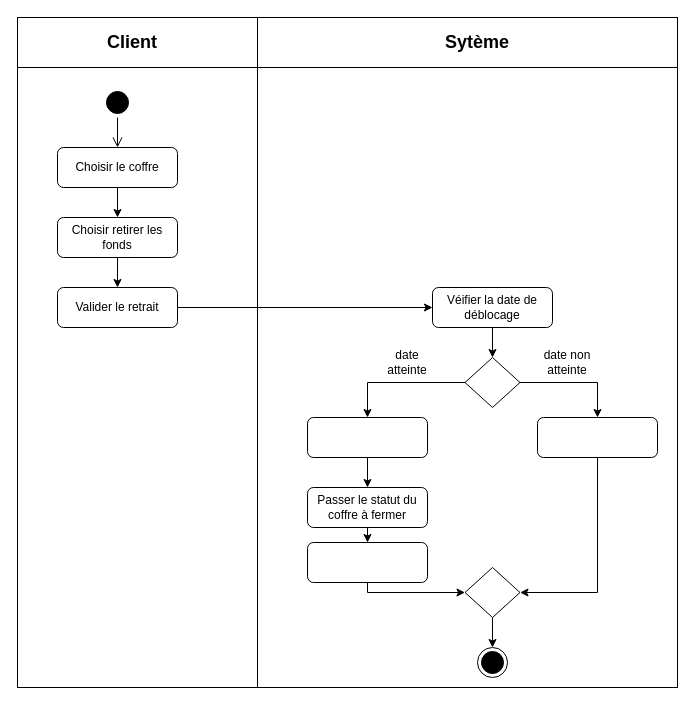
Some shapes in this 695 by 705 pixel diagram are drawn without their labels. The shapes that lost their labels are listed below. From the top down, each one's box as (x1, y1, x2, y2) in pixels, then its label:
(306, 416, 428, 458): Transférer les fonds du coffre au portefeuille
(536, 416, 658, 458): Afficher épargne encore bloquée
(306, 542, 428, 582): Enregitrer la tranaction
